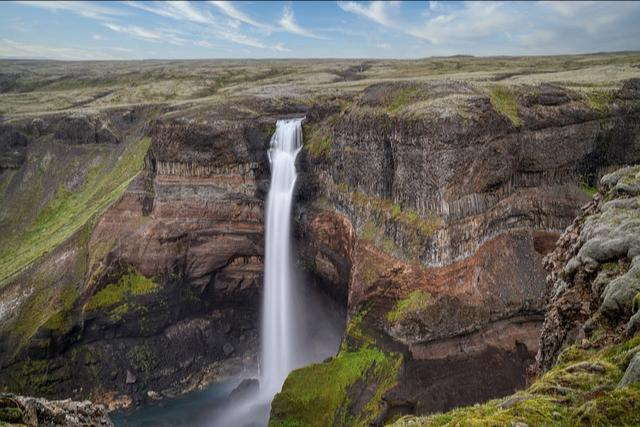Non_Gorille: (96, 66, 508, 398)
